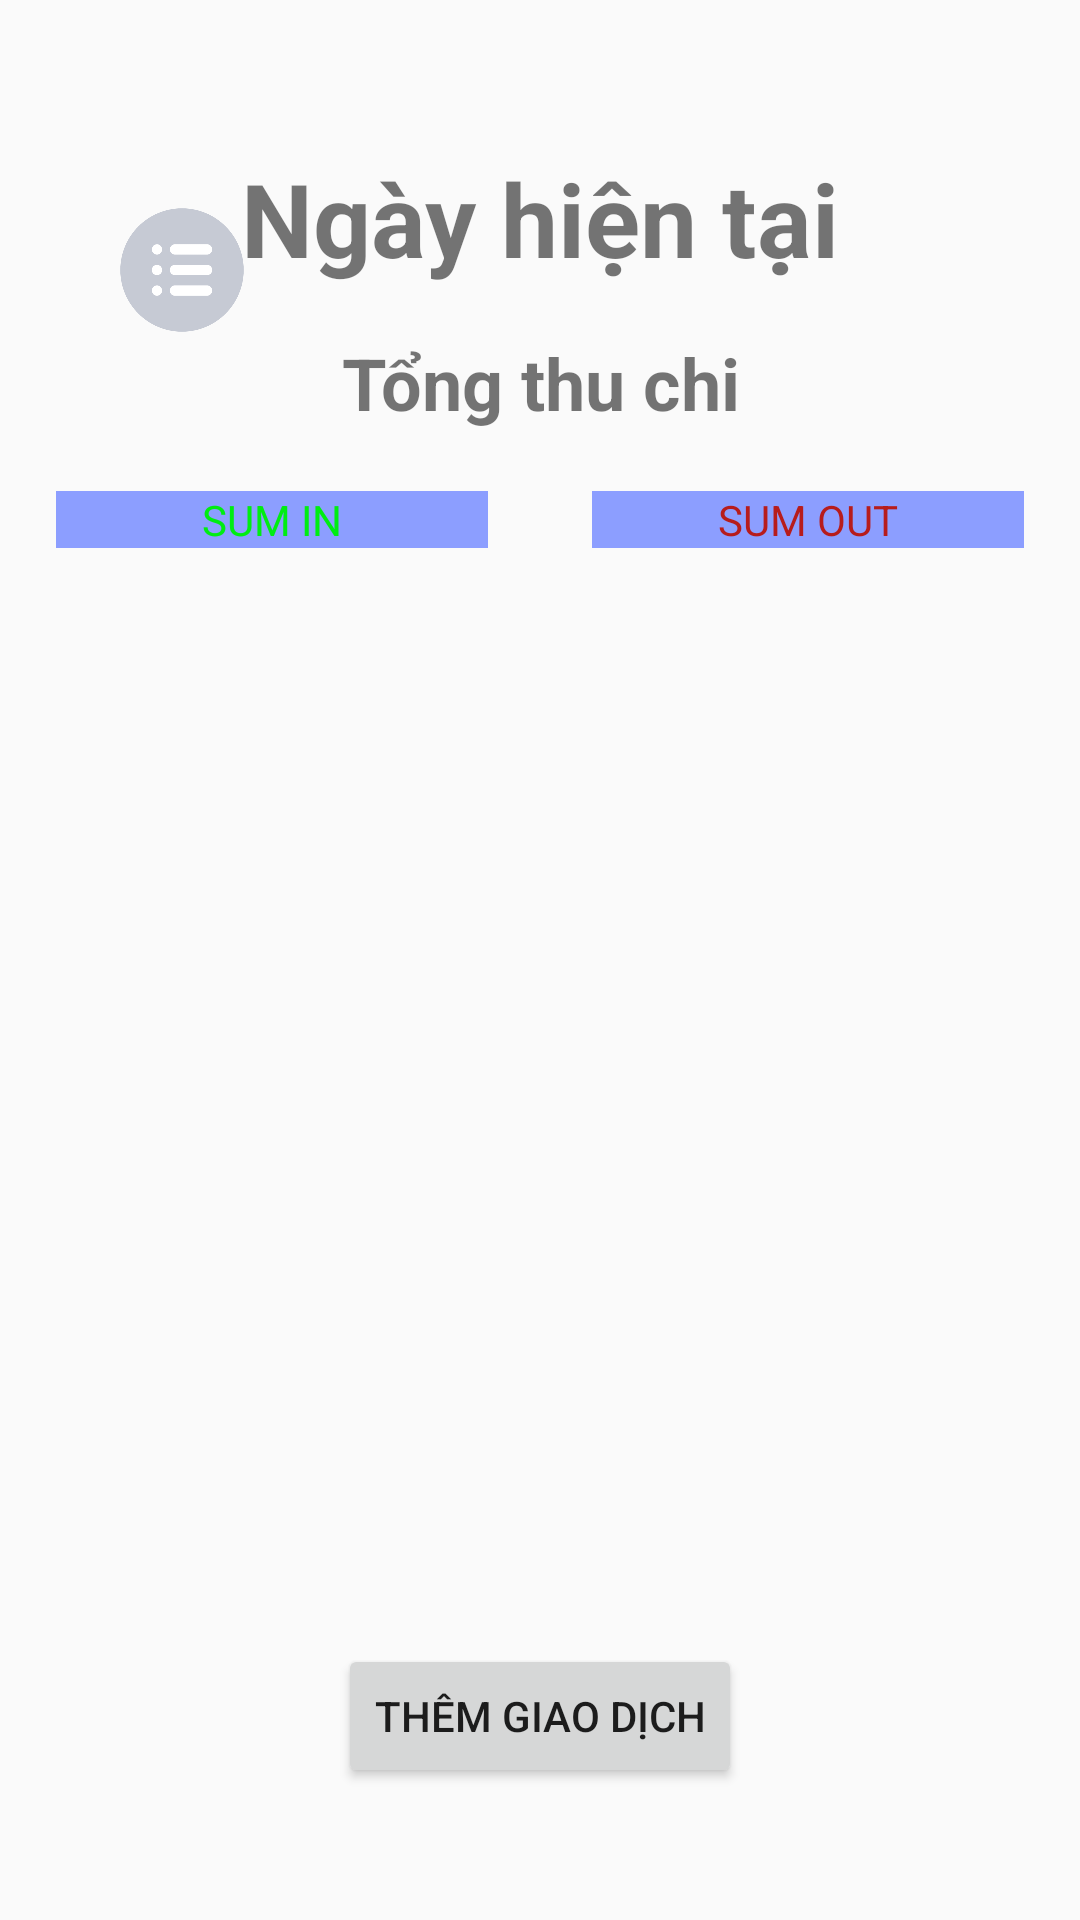

Screen size 1080x1920. Icon name, then its center in pixels as (x,y):
menu: (182,270)
